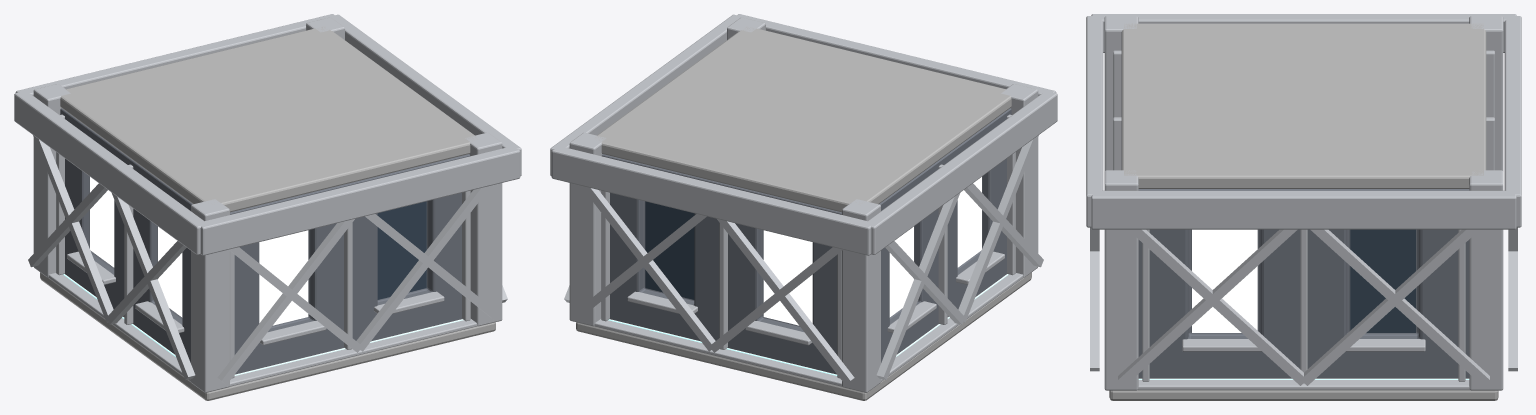
The model's file is exo_3x3.glb.
The picture shows the model from 3 angles, left to right: view 1: azimuth 30°, elevation 25°; view 2: azimuth 150°, elevation 25°; view 3: azimuth 270°, elevation 25°; orthographic projection. The views are drawn at different scales.
Visible parts, largest first — view 1: int_ceiling, ext_wall, int_columns, ext_truss3, ext_truss2, ext_frames, ext_panes_lit, int_slab, int_slab_edge, ext_truss0, ext_panes_dark, ext_truss1 (+9 smaller); view 2: int_ceiling, ext_wall, int_columns, ext_truss1, ext_truss2, ext_frames, ext_panes_lit, int_slab, int_slab_edge, ext_truss0, ext_panes_dark, ext_truss3 (+9 smaller); view 3: int_ceiling, ext_wall, ext_truss0, int_columns, ext_frames, ext_panes_lit, ext_panes_dark, int_slab, ext_truss2, int_slab_edge, ext_truss3, ext_truss1 (+7 smaller).
Boxes of the visible parts, bbox=[...] form: int_ceiling: bbox=[60, 27, 477, 212]; ext_wall: bbox=[60, 108, 469, 374]; int_columns: bbox=[33, 17, 502, 392]; ext_truss3: bbox=[200, 146, 520, 255]; ext_truss2: bbox=[14, 92, 206, 254]; ext_frames: bbox=[56, 114, 470, 378]; ext_panes_lit: bbox=[90, 177, 308, 325]; int_slab: bbox=[40, 272, 495, 400]; int_slab_edge: bbox=[48, 273, 477, 386]; ext_truss0: bbox=[329, 14, 521, 176]; ext_panes_dark: bbox=[377, 201, 426, 299]; ext_truss1: bbox=[15, 14, 336, 95]; int_ceiling: bbox=[595, 27, 1011, 212]; ext_wall: bbox=[602, 108, 1011, 374]; int_columns: bbox=[569, 17, 1038, 392]; ext_truss1: bbox=[551, 146, 872, 255]; ext_truss2: bbox=[865, 91, 1057, 254]; ext_frames: bbox=[601, 114, 1015, 378]; ext_panes_lit: bbox=[763, 177, 981, 325]; int_slab: bbox=[576, 272, 1031, 400]; int_slab_edge: bbox=[594, 273, 1023, 386]; ext_truss0: bbox=[550, 14, 743, 176]; ext_panes_dark: bbox=[645, 201, 694, 299]; ext_truss3: bbox=[736, 14, 1056, 95]; int_ceiling: bbox=[1121, 23, 1486, 188]; ext_wall: bbox=[1138, 189, 1469, 378]; ext_truss0: bbox=[1091, 190, 1516, 229]; int_columns: bbox=[1104, 16, 1503, 390]; ext_frames: bbox=[1113, 50, 1494, 381]; ext_panes_lit: bbox=[1192, 229, 1257, 332]; ext_panes_dark: bbox=[1350, 229, 1415, 332]; int_slab: bbox=[1109, 390, 1498, 400]; ext_truss2: bbox=[1091, 14, 1516, 52]; int_slab_edge: bbox=[1138, 380, 1469, 390]; ext_truss3: bbox=[1086, 16, 1103, 227]; ext_truss1: bbox=[1504, 16, 1521, 227].
Size of the model in its own units: 3.58 by 2 by 3.58.
